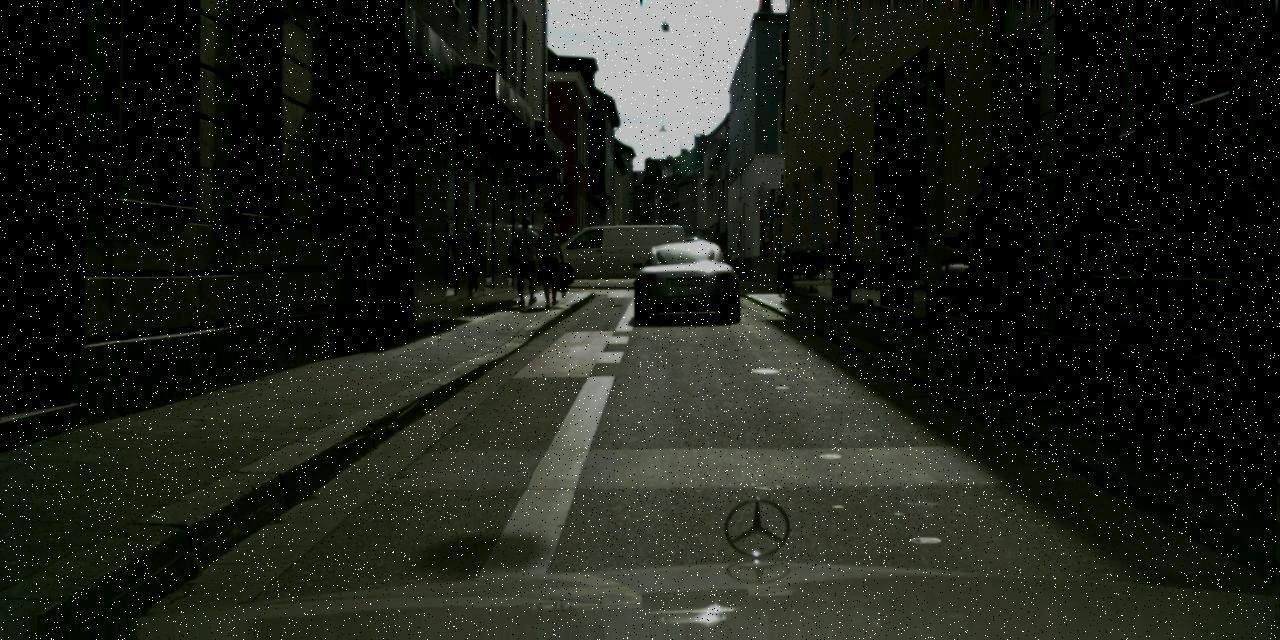ped: (968, 152, 1063, 386), (948, 162, 1038, 380), (508, 218, 544, 304), (532, 219, 567, 305)
